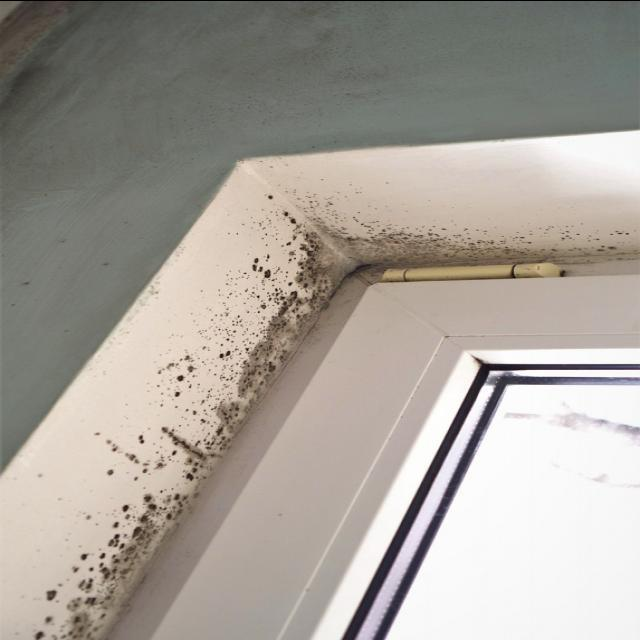Crack: (161, 428, 207, 463)
leak: (28, 216, 346, 640), (304, 197, 640, 273)
